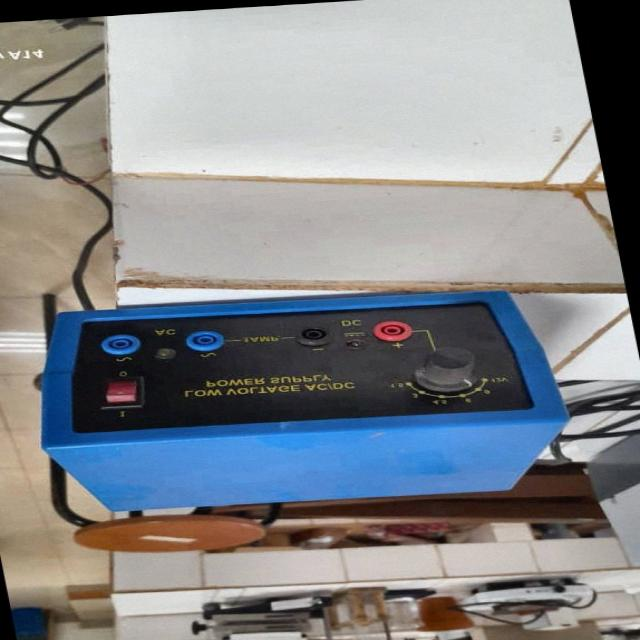Power Supply: (0, 271, 584, 523)
